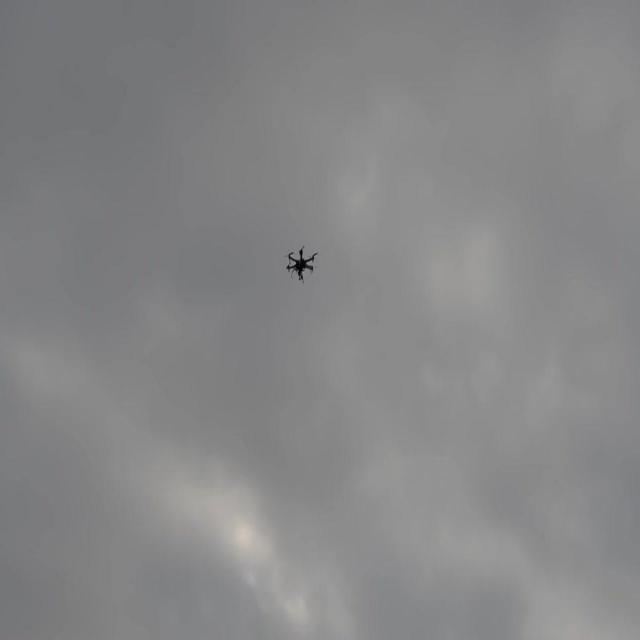UAV: (284, 244, 318, 284)
